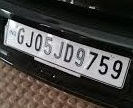numberplate: (4, 17, 129, 90)
